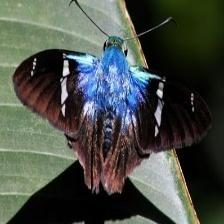butterfly: (11, 36, 213, 198)
